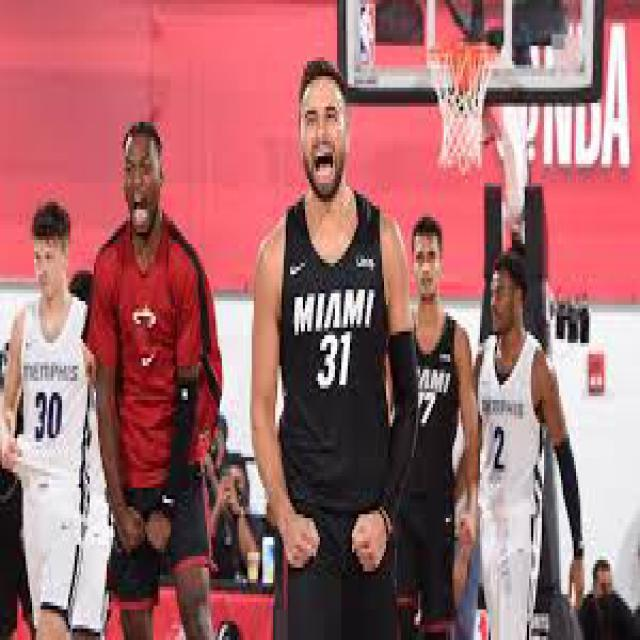rim: (424, 38, 502, 84)
